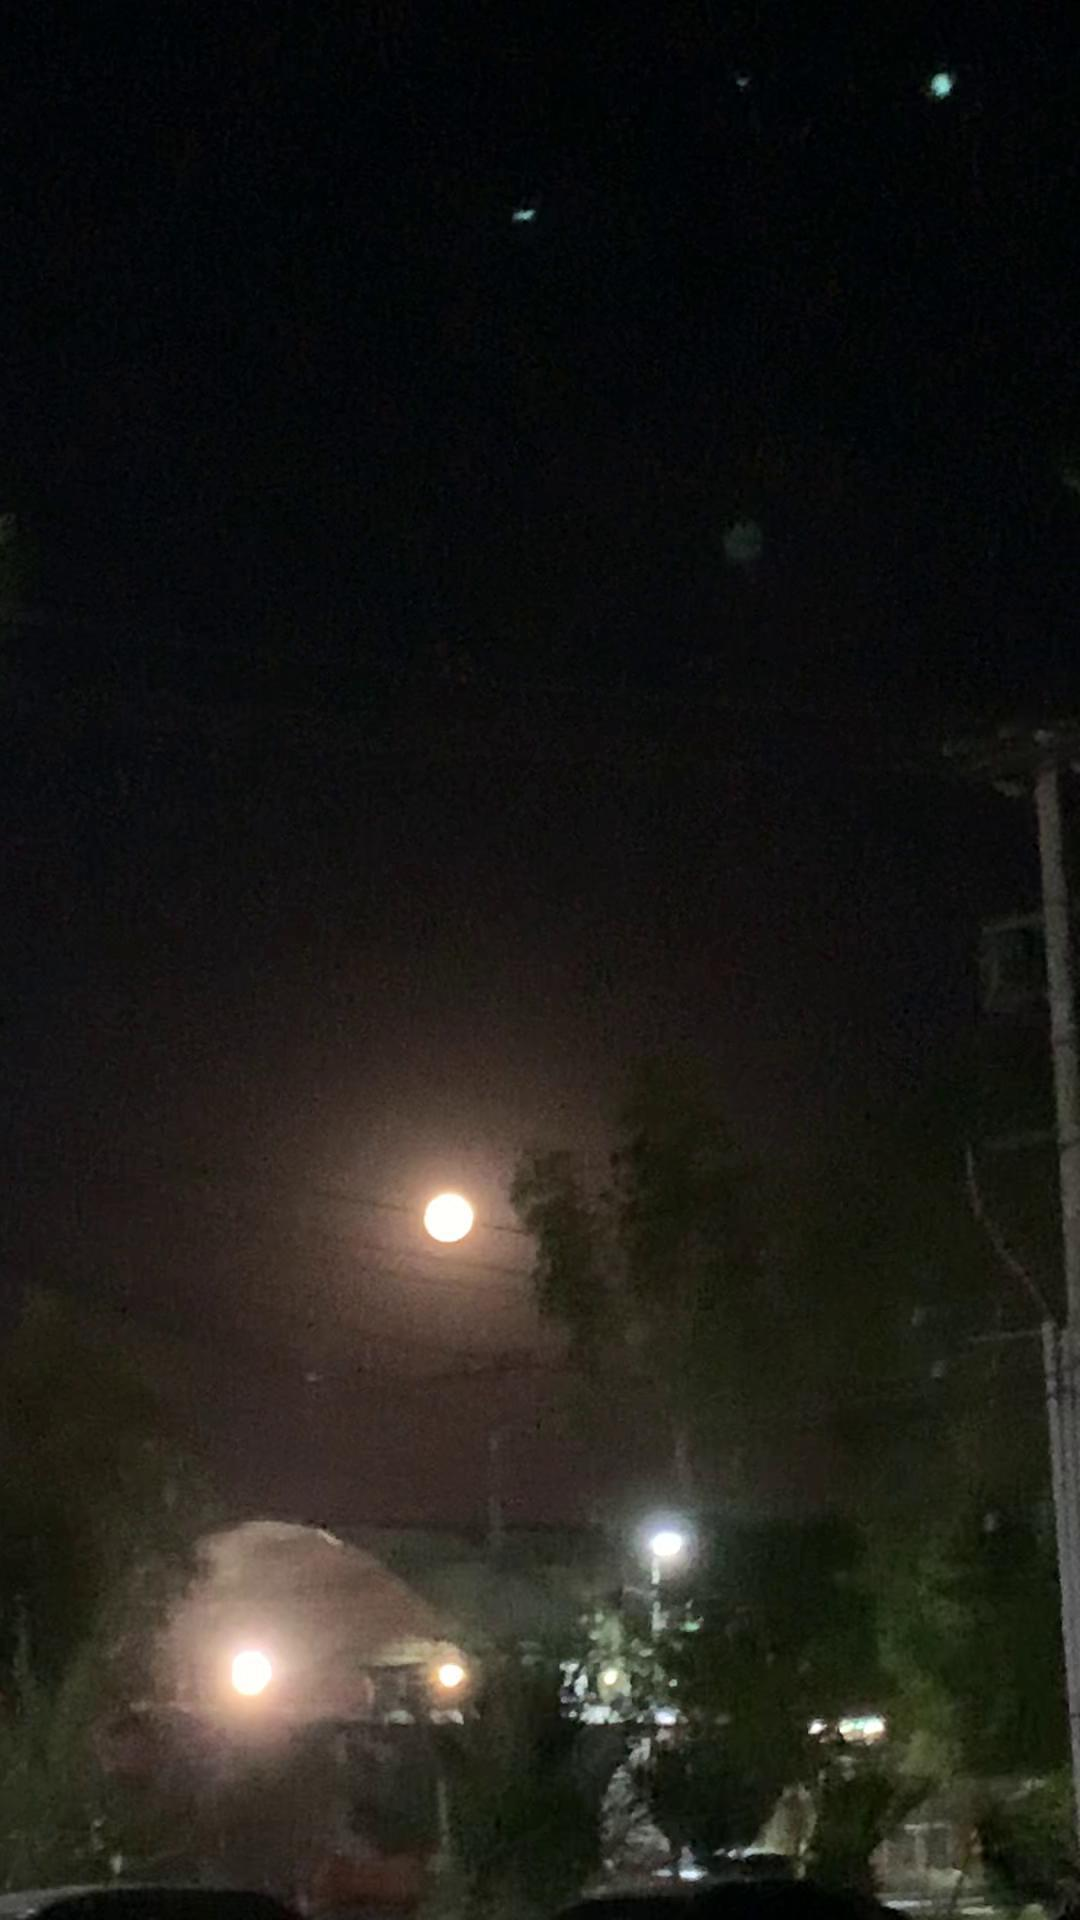moon: (397, 1172, 485, 1247)
